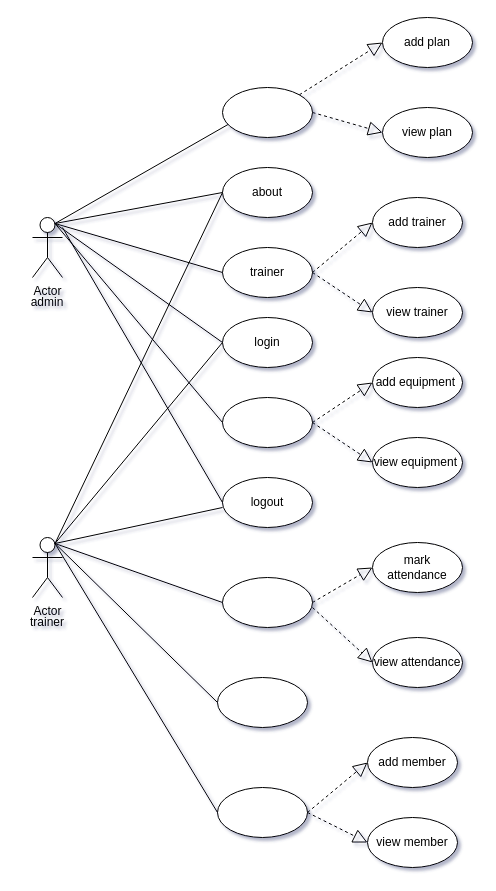
Image size: 496x891. Some labels were removed from this diagram. The centre of each missing label's shape, as x and y in pixels:
"attendance" belongs at pixel 267 602.
"contact" belongs at pixel 262 702.
"equipment" belongs at pixel 267 422.
"member" belongs at pixel 262 812.
"plan" belongs at pixel 267 112.
